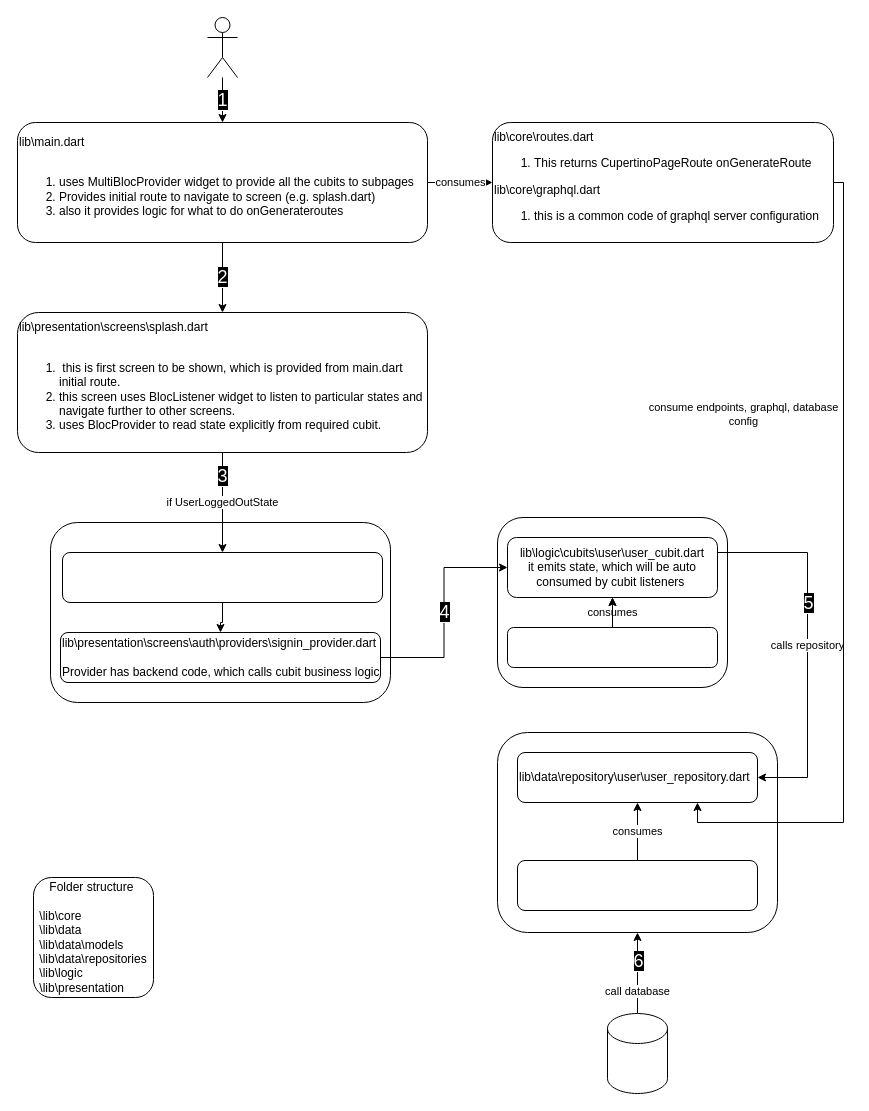
This 869x1111 diagram has some shape labels left out. Each missing label, with the centre of its shape:
Actor: the point at 222,47
lib\data\models\user\user_model.dart: the point at 637,885
lib\logic\cubits\user\user_state.dart: the point at 612,647
lib\presentation\screens\auth\signin_screen.dart: the point at 222,577
